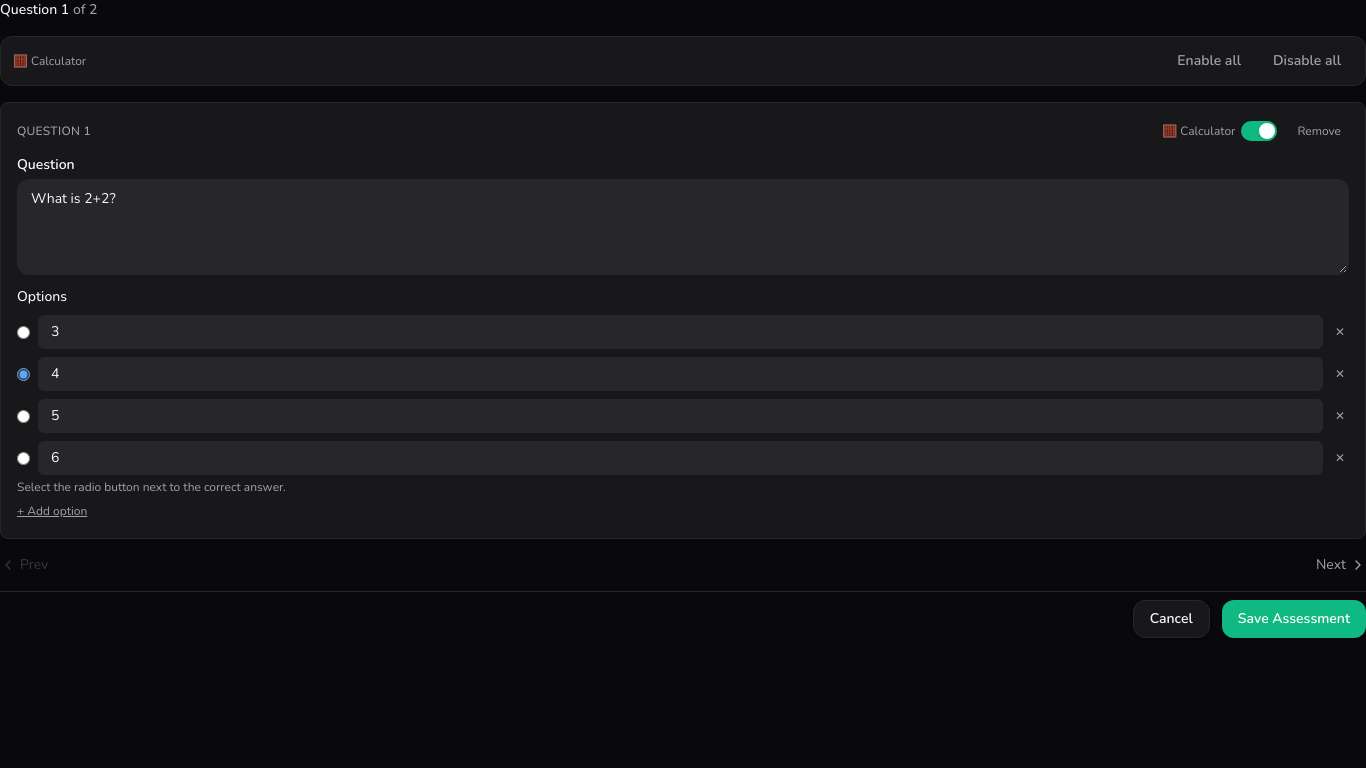
it: AssessmentForm › shows confirm dialog for Disable all with mixed state
Click the button with aria-label "Disable calculator for all questions".
click(1307, 61)  # box [1261, 45, 1353, 77]
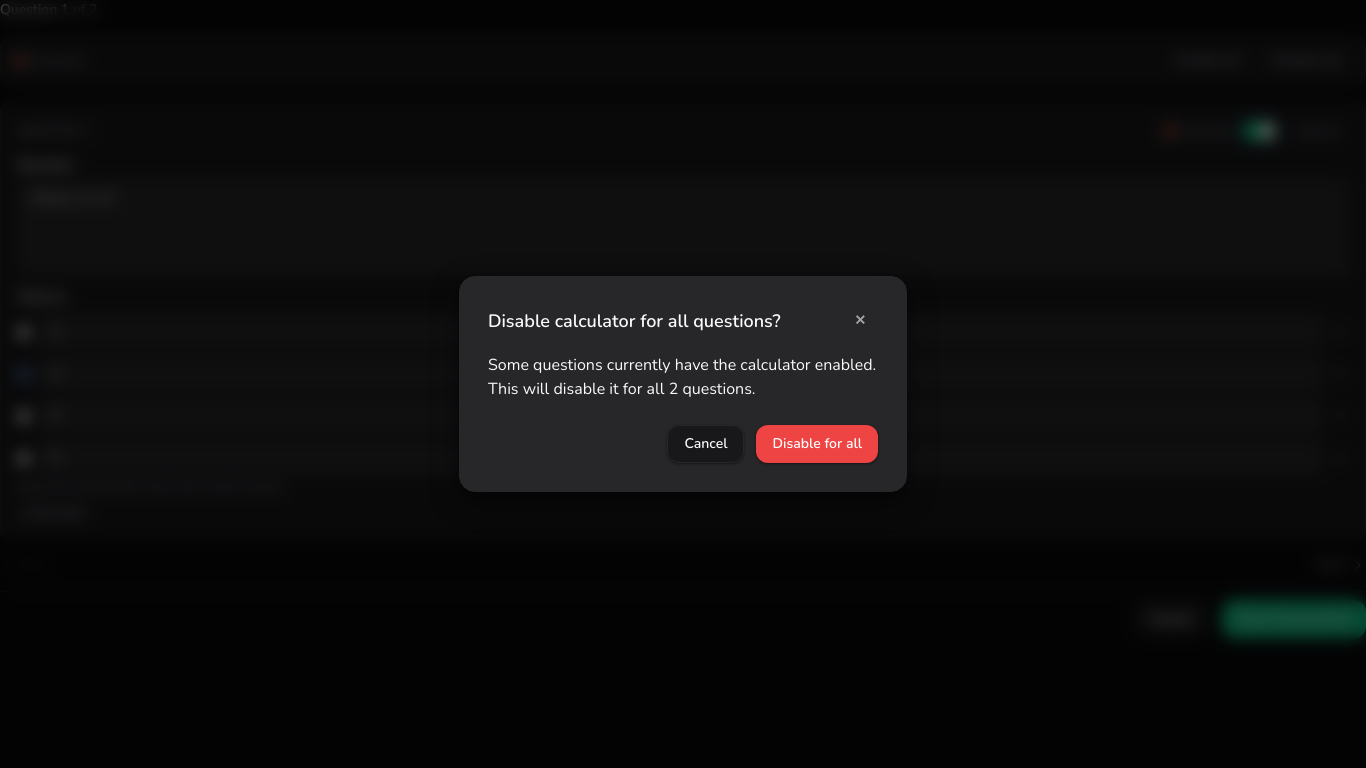
Expected: the heading "Disable calculator for all questions?" is shown, [488, 307, 781, 335]
